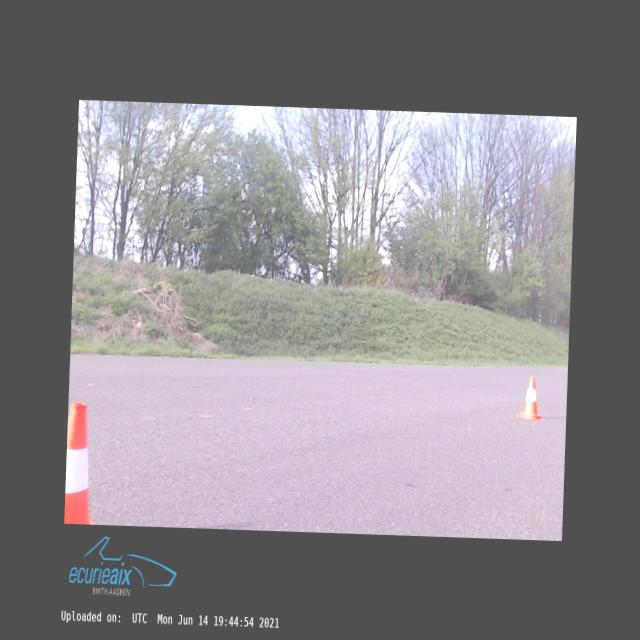orange_cone: (64, 402, 101, 524), (516, 376, 545, 420)
